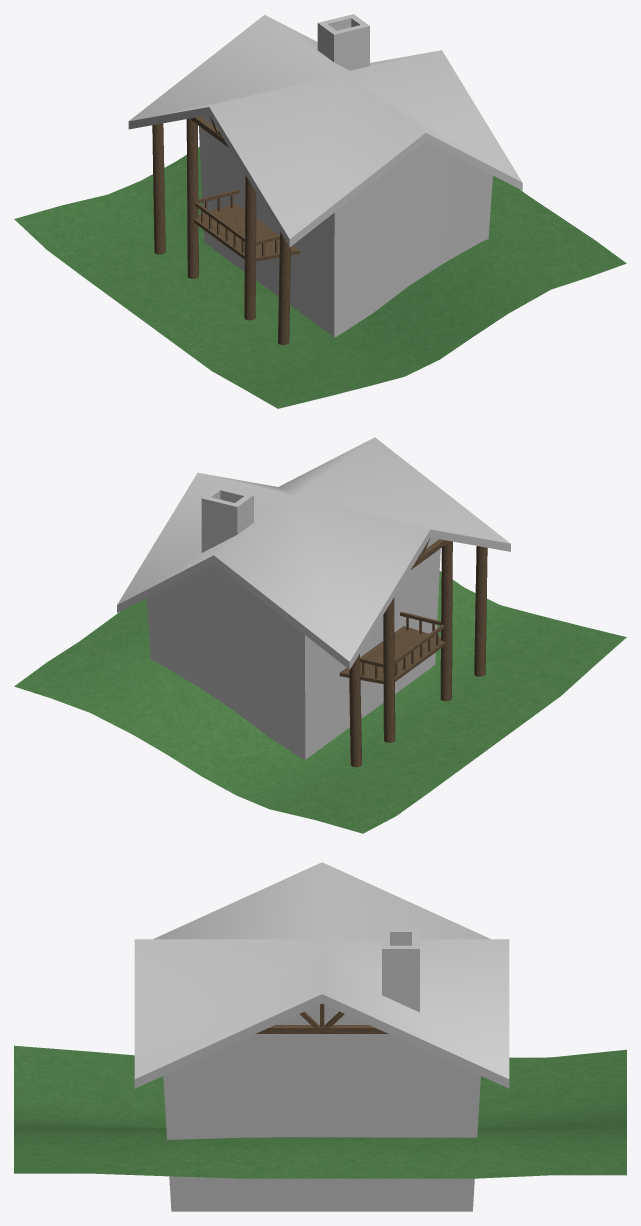
File: House.FBX
3 views of the same model, one above another, from view 1: azimuth 30°, elevation 25°; view 2: azimuth 150°, elevation 25°; view 3: azimuth 270°, elevation 25° (orthographic). The views are drawn at different scales.
Parts seen in each view (by area): view 1: Ground, Roof, House, Chimney, Balcony, Column001, Column002, Column, Column003; view 2: Ground, Roof, House, Chimney, Balcony, Column002, Column001, Column003, Column; view 3: Roof, Ground, House, Chimney, RoofColumn001.
Part boxes in pixels (x1,y1,x2,y2): Ground: [14, 147, 626, 408]; Roof: [128, 15, 522, 247]; House: [199, 115, 492, 337]; Chimney: [317, 14, 369, 70]; Balcony: [194, 203, 299, 261]; Column001: [186, 118, 198, 278]; Column002: [244, 175, 256, 320]; Column: [152, 123, 165, 254]; Column003: [278, 232, 290, 344]; Ground: [14, 571, 626, 833]; Roof: [117, 437, 510, 669]; House: [146, 537, 440, 759]; Chimney: [201, 486, 253, 552]; Balcony: [339, 626, 445, 684]; Column002: [440, 541, 452, 701]; Column001: [383, 597, 395, 742]; Column003: [474, 546, 487, 676]; Column: [349, 654, 361, 767]; Roof: [134, 862, 509, 1088]; Ground: [14, 1045, 626, 1178]; House: [163, 1004, 480, 1211]; Chimney: [382, 928, 419, 1012]; RoofColumn001: [256, 1003, 388, 1033].
Bounding box in the file's own units: 88.03 × 52.23 × 115.
